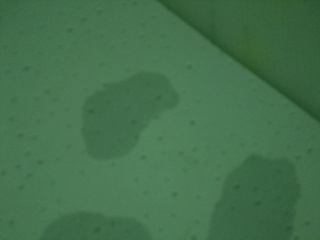Water_detected: (79, 77, 163, 157), (202, 165, 254, 236)
